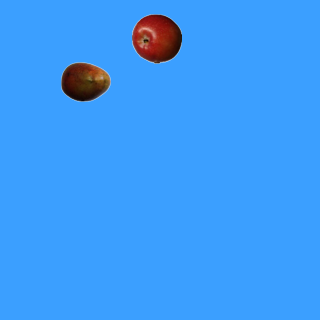Apple Braeburn: (131, 13, 181, 63)
Mango Red: (60, 56, 110, 106)
